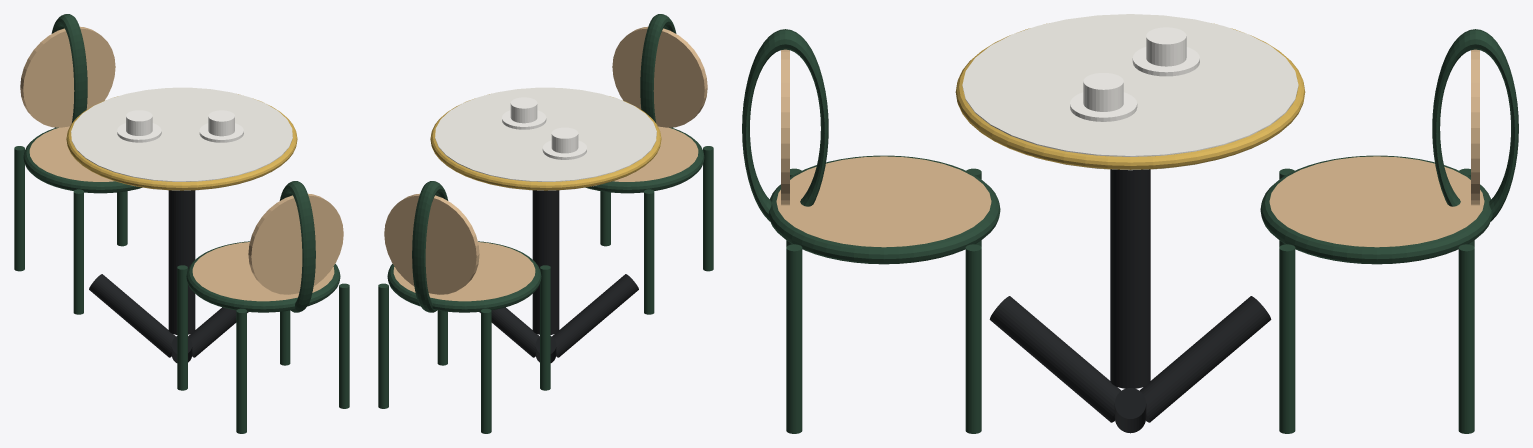
Rendered from cafe-terrace-set.glb.
3 renders of one model, left to right at view 1: azimuth 30°, elevation 25°; view 2: azimuth 150°, elevation 25°; view 3: azimuth 270°, elevation 25°, orthographic. The views are drawn at different scales.
Visible parts, largest first — view 1: Cylinder.004, Cylinder.016, Cylinder.022, Cylinder.015, Cylinder.003, Torus, Cylinder.001, Cylinder.021, Torus.002, Torus.001, Torus.004, Torus.003 (+12 smaller); view 2: Cylinder.004, Cylinder.022, Cylinder.016, Cylinder.021, Cylinder.003, Torus, Cylinder.002, Cylinder.015, Torus.004, Torus.003, Torus.002, Torus.001 (+12 smaller); view 3: Cylinder.004, Cylinder.015, Cylinder.021, Cylinder.003, Torus, Torus.001, Torus.003, Cylinder.001, Cylinder.002, Torus.002, Torus.004, Cylinder.013 (+10 smaller).
Part boxes in pixels (x1,y1,x2,y2): Cylinder.004: (71, 87, 292, 190); Cylinder.016: (248, 193, 343, 294); Cylinder.022: (20, 26, 115, 127); Cylinder.015: (192, 242, 334, 301); Cylinder.003: (168, 190, 195, 334); Torus: (66, 94, 297, 190); Cylinder.001: (89, 274, 175, 357); Cylinder.021: (29, 126, 114, 181); Torus.002: (279, 181, 315, 312); Torus.001: (186, 241, 340, 312); Torus.004: (51, 14, 87, 127); Torus.003: (23, 127, 142, 193); Cylinder.004: (435, 87, 656, 190); Cylinder.022: (384, 193, 479, 294); Cylinder.016: (612, 26, 707, 127); Cylinder.021: (393, 242, 535, 301); Cylinder.003: (532, 190, 559, 334); Torus: (430, 94, 661, 190); Cylinder.002: (552, 274, 638, 357); Cylinder.015: (613, 126, 698, 181); Torus.004: (412, 181, 448, 312); Torus.003: (387, 241, 541, 312); Torus.002: (640, 14, 676, 127); Torus.001: (585, 127, 704, 193); Cylinder.004: (962, 14, 1298, 170); Cylinder.015: (776, 156, 991, 247); Cylinder.021: (1269, 156, 1484, 247); Cylinder.003: (1110, 169, 1150, 388); Torus: (955, 23, 1305, 169); Torus.001: (768, 155, 1000, 264); Torus.003: (1260, 155, 1492, 264); Cylinder.001: (1139, 296, 1271, 422); Cylinder.002: (989, 296, 1121, 422); Torus.002: (742, 29, 828, 221); Torus.004: (1432, 29, 1518, 221); Cylinder.013: (786, 244, 802, 433).
Bounding box in the file's own units: 0.78 × 0.9723 × 1.73.
